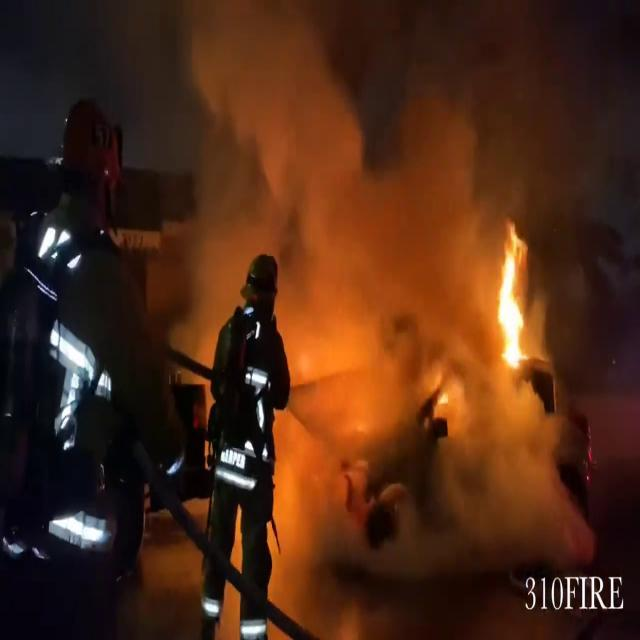Fire: (488, 220, 540, 373)
Smoke: (153, 1, 498, 567)
